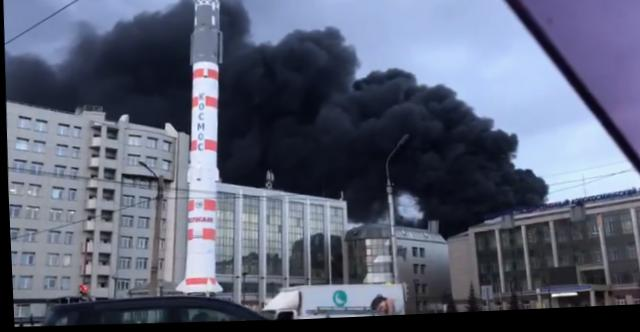smoke: (257, 35, 375, 194), (435, 86, 551, 215), (86, 19, 192, 122), (214, 0, 263, 181), (370, 78, 438, 196), (3, 43, 89, 119), (346, 192, 389, 230), (436, 213, 476, 233)
